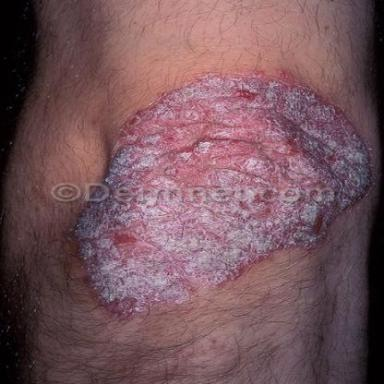Psoriasis: (70, 68, 373, 321)
